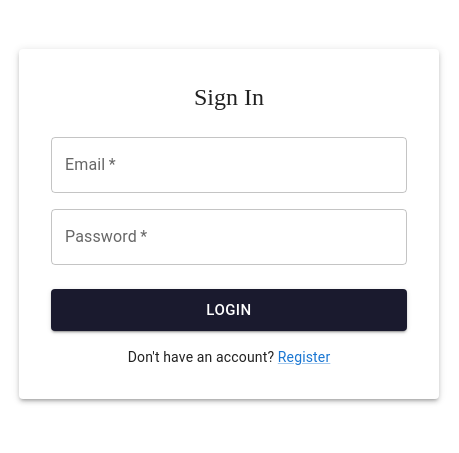
Scenario: LoginPage › displays error message on failed login
This screenshot has width=459, height=453.
Type "test@example.com" into the field labelled "Email *".
click(229, 165); type("test@example.com")  # box [51,137,407,193]
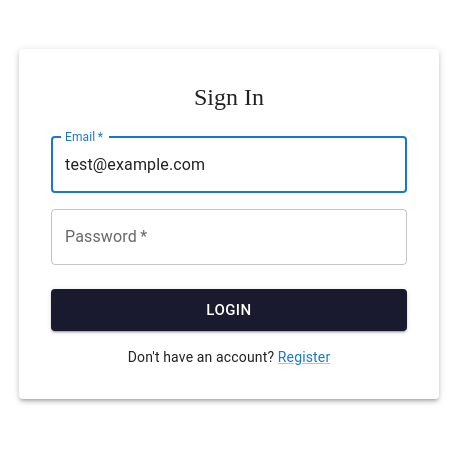
Type "wrong" into the password field labelled "Password *".
click(229, 237); type("wrong")  # box [51,209,407,265]
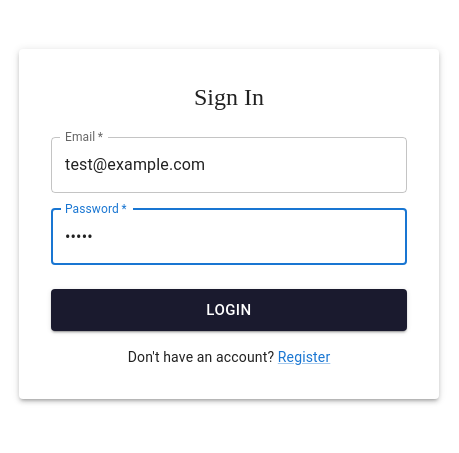
Click the button "Login".
click(229, 310)  # box [51,289,407,331]
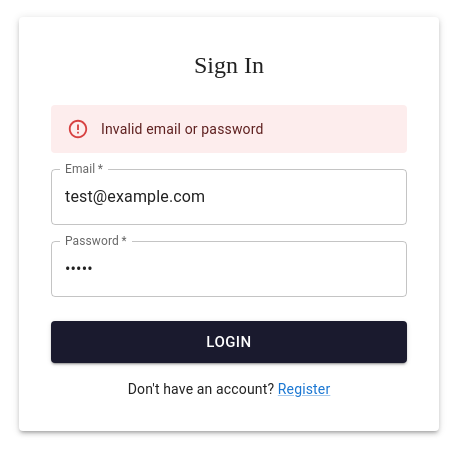
Now the text "Invalid email or password" is shown, box [101,121,264,137]
